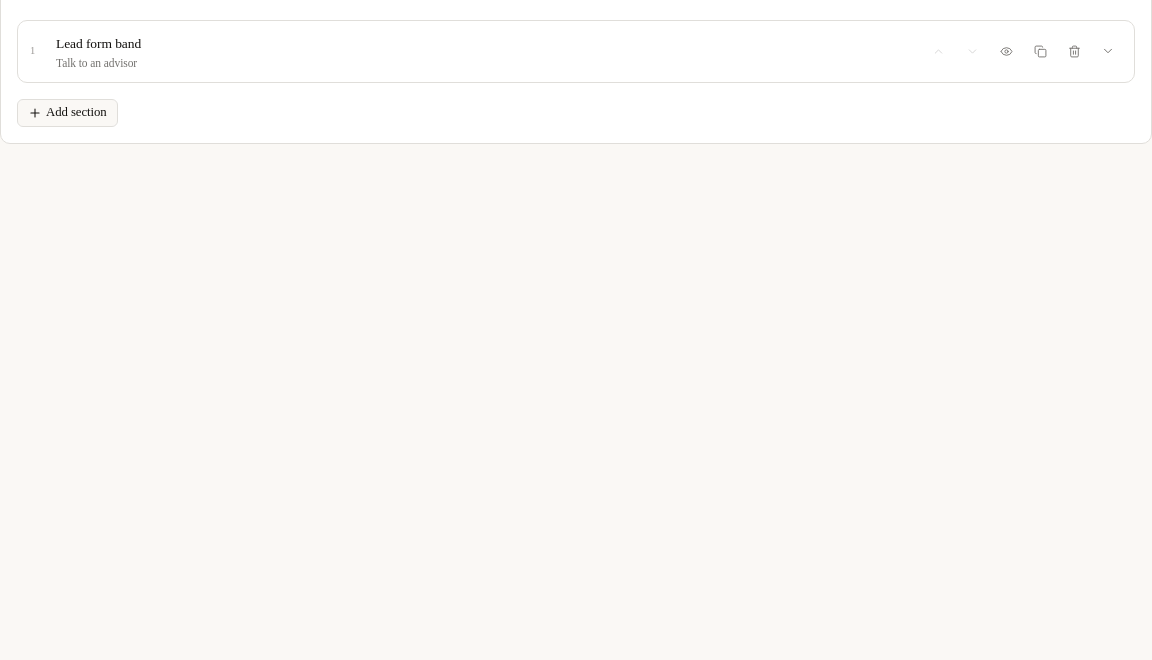
Test: BlockEditor — form picker preview › warns when the chosen form is switched off in Forms
Click the button named "Expand".
click(1108, 51)  # box [1094,37,1122,65]
(page scrolled)
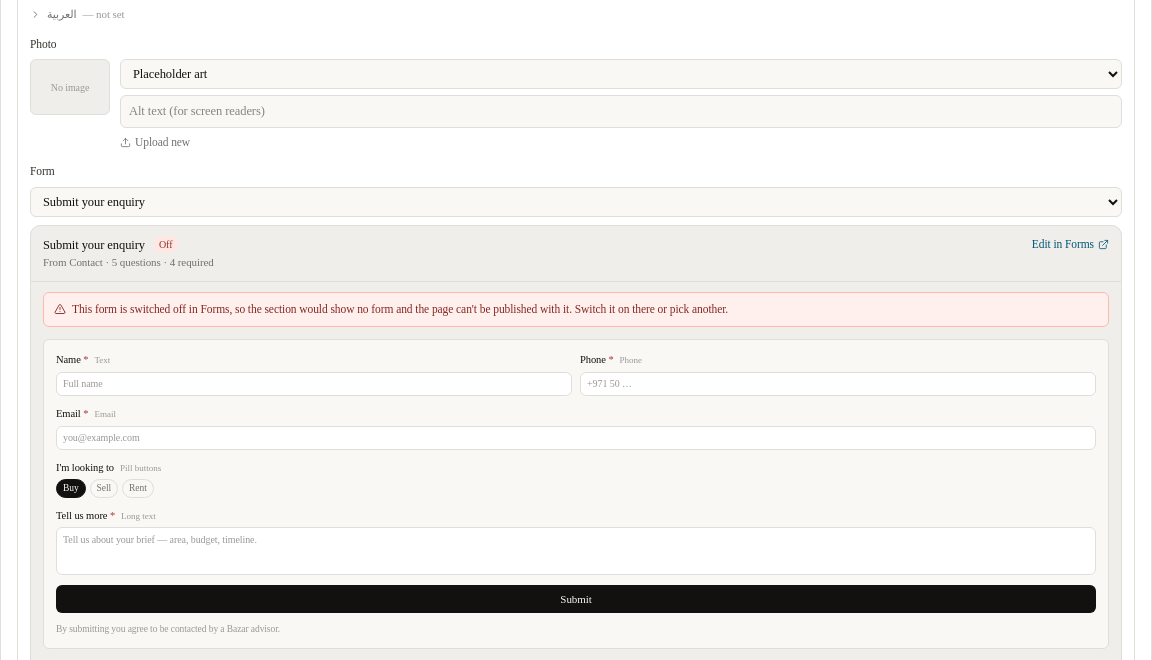
Result: the text "switched off in Forms" is shown at [72,303,728,315]
